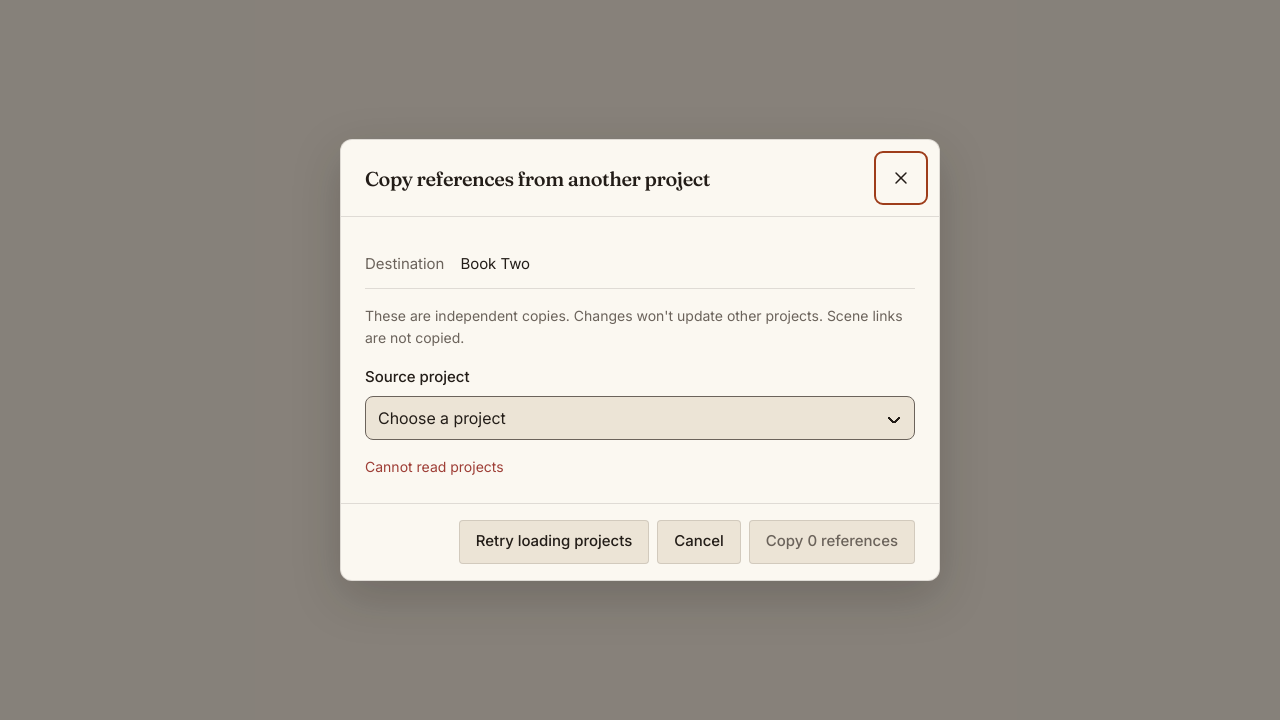
Test: independent reference copies › shows an empty state and a retry for project loading errors
Expected: the message reads "Cannot read projects", [365,458,504,475]
Click the button "Retry loading projects" at coordinates (554, 542), box [459,520,649,564]
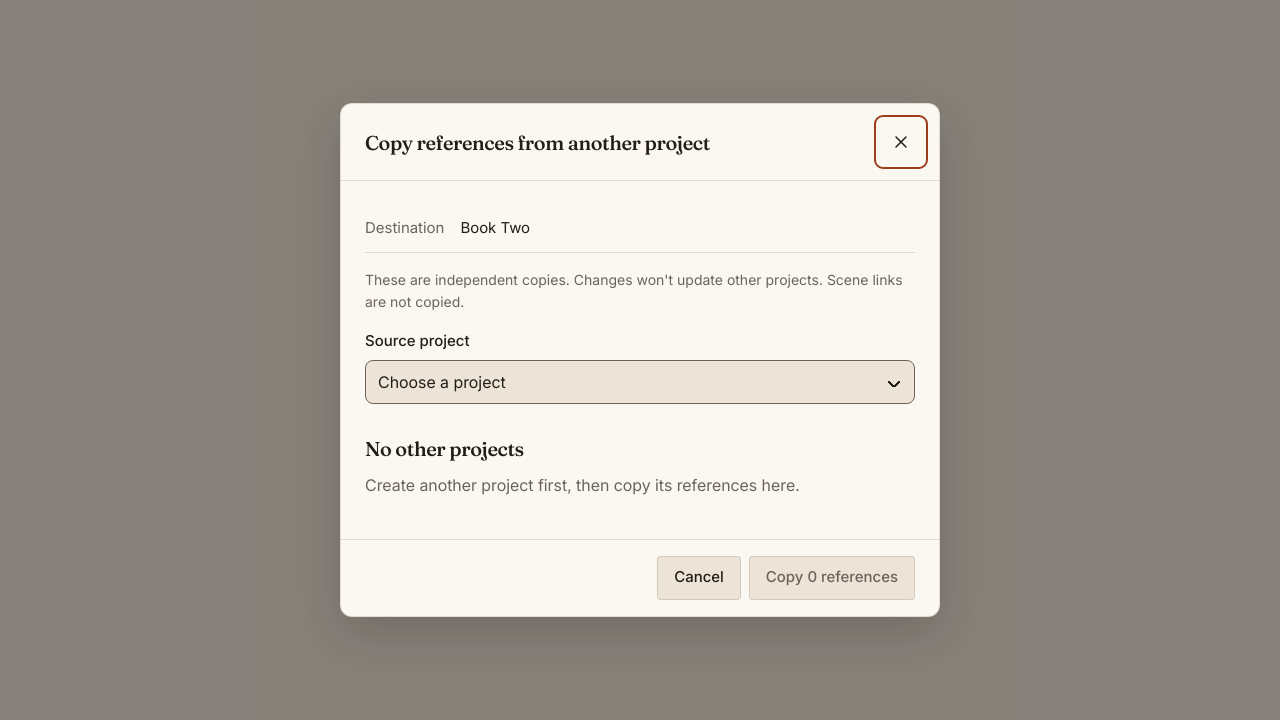
Expected: the text "Create another project first, then copy its references here." is shown, [365,473,800,499]
